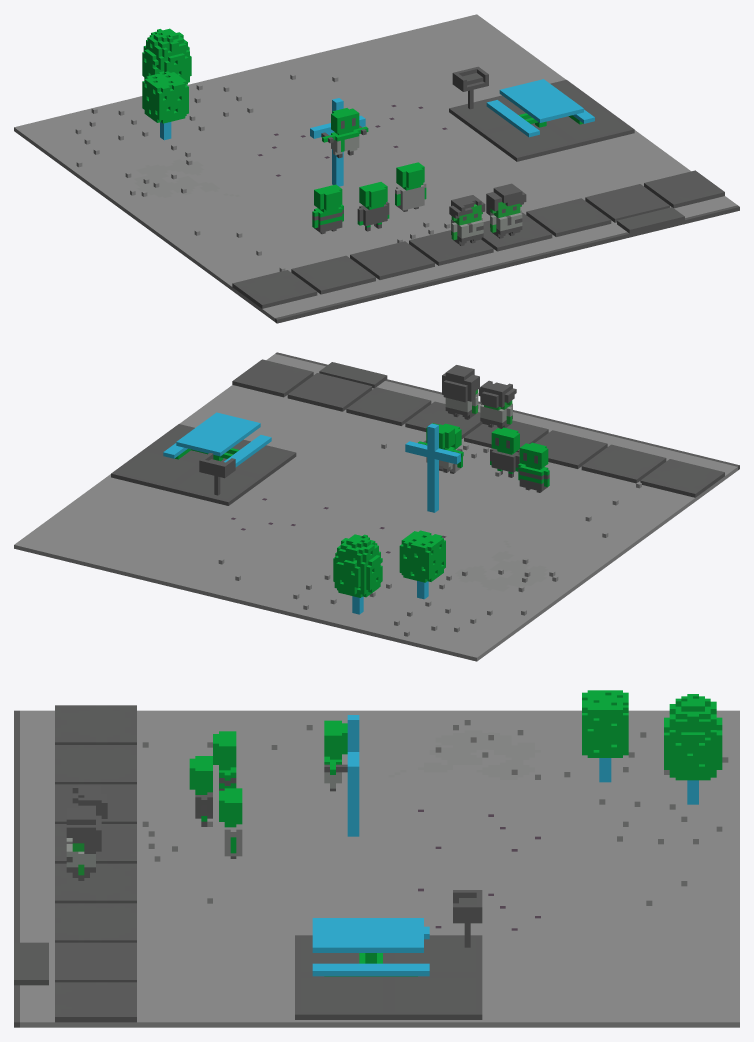
File: scene_crucifix.obj
The picture shows the model from 3 angles, top to bottom: view 1: azimuth 30°, elevation 25°; view 2: azimuth 150°, elevation 25°; view 3: azimuth 270°, elevation 25°; orthographic projection. The views are drawn at different scales.
Bounding box in the file's own units: 126 × 23 × 124.
